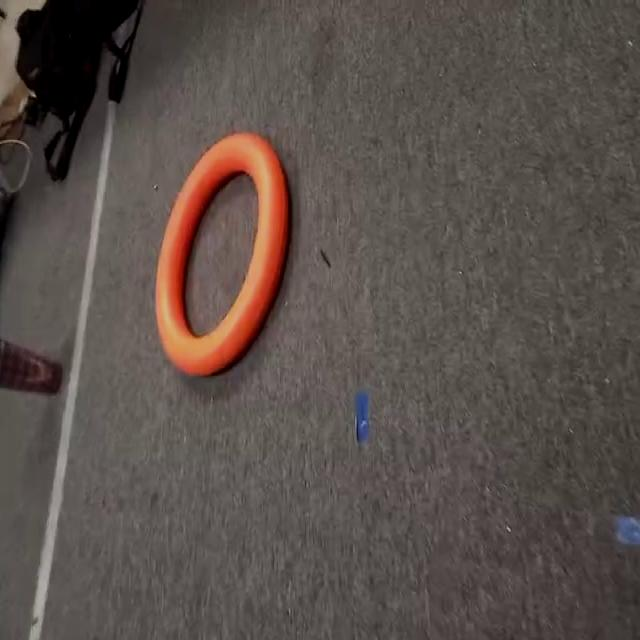note: (152, 128, 304, 386)
